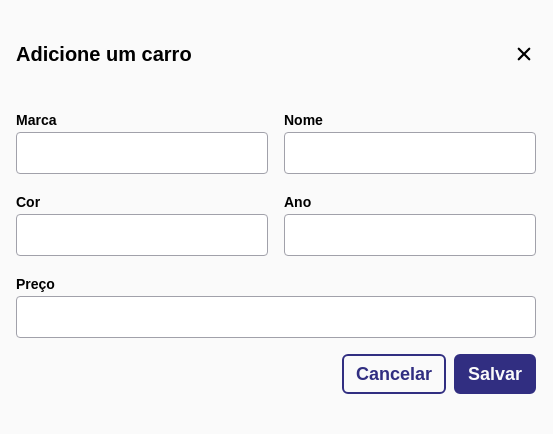
Test case: CreateCarModal › shows validation errors on invalid input
Click the button "Salvar" at (495, 374), box [454,354,536,394]
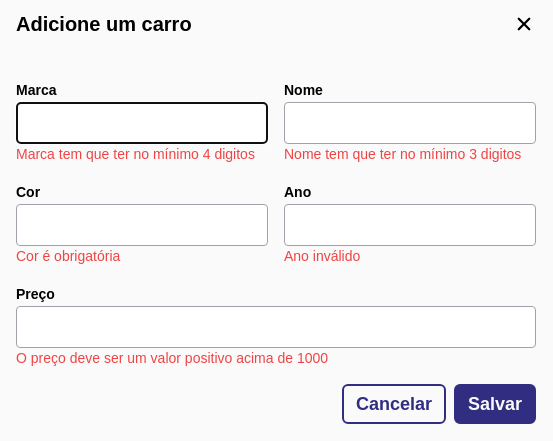
Result: the text "Marca tem que ter no mínimo 4 digitos" is shown at [16,144,268,164]
Result: the text "Nome tem que ter no mínimo 3 digitos" is shown at [284,144,536,164]
Result: the text "O preço deve ser um valor positivo acima de 1000" is shown at [16,350,328,366]
